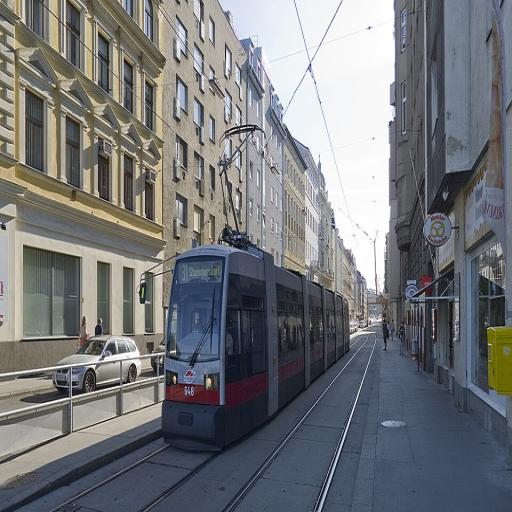ULF: (161, 245, 353, 448)
